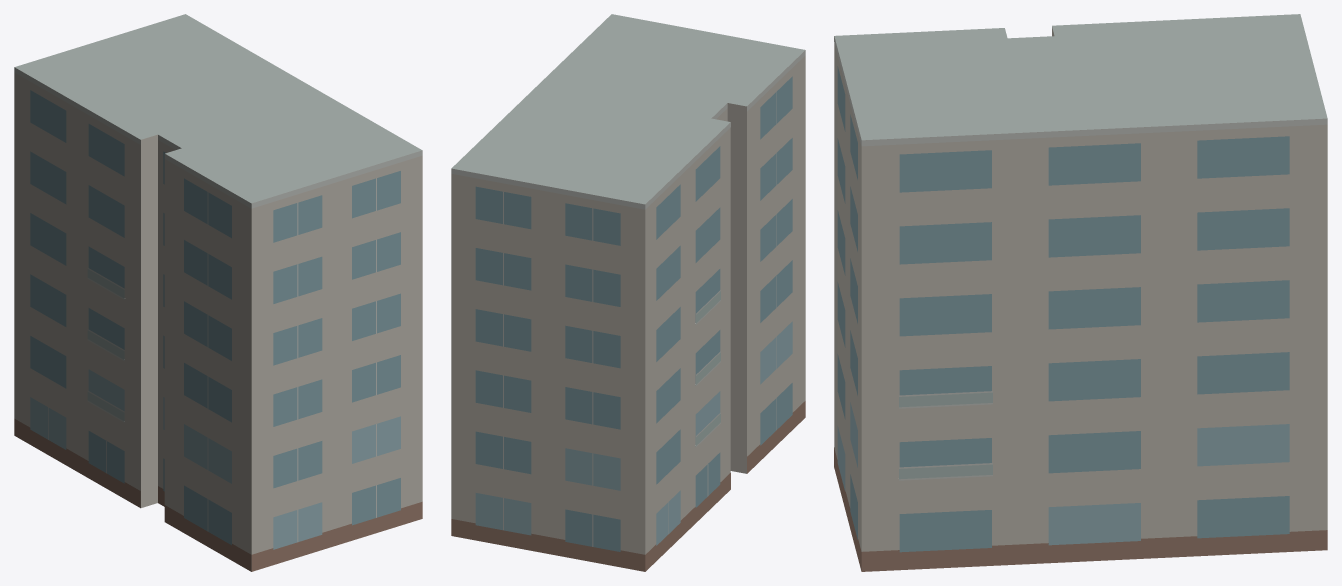
Rendered from survey-upis-33011152.glb.
The picture shows the model from 3 angles, left to right: view 1: azimuth 30°, elevation 25°; view 2: azimuth 150°, elevation 25°; view 3: azimuth 270°, elevation 25°; orthographic projection. The views are drawn at different scales.
Visible parts, largest first — view 1: survey-upis-33011152.tmp; view 2: survey-upis-33011152.tmp; view 3: survey-upis-33011152.tmp.
Boxes of the visible parts, x1=… form: survey-upis-33011152.tmp: x1=14, y1=14, x2=422, y2=571; survey-upis-33011152.tmp: x1=451, y1=14, x2=805, y2=571; survey-upis-33011152.tmp: x1=834, y1=14, x2=1327, y2=571.
Bounding box in the file's own units: 10.8 × 17.2 × 17.83.
